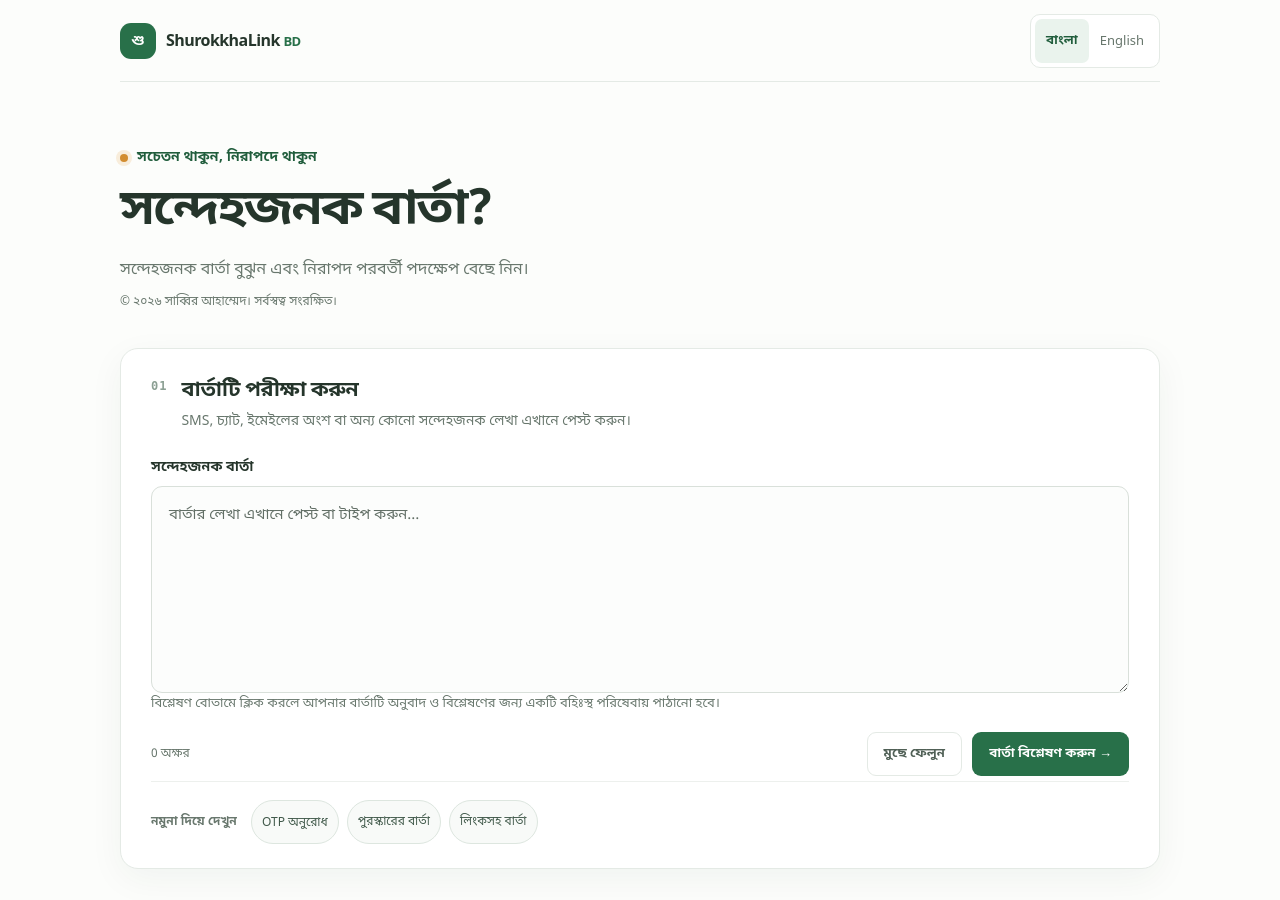
message analysis workflow › displays the validated translation before structured findings
Step 1. Click the button "English" → x=1122, y=40, box x1=1089 y1=18 x2=1155 y2=62
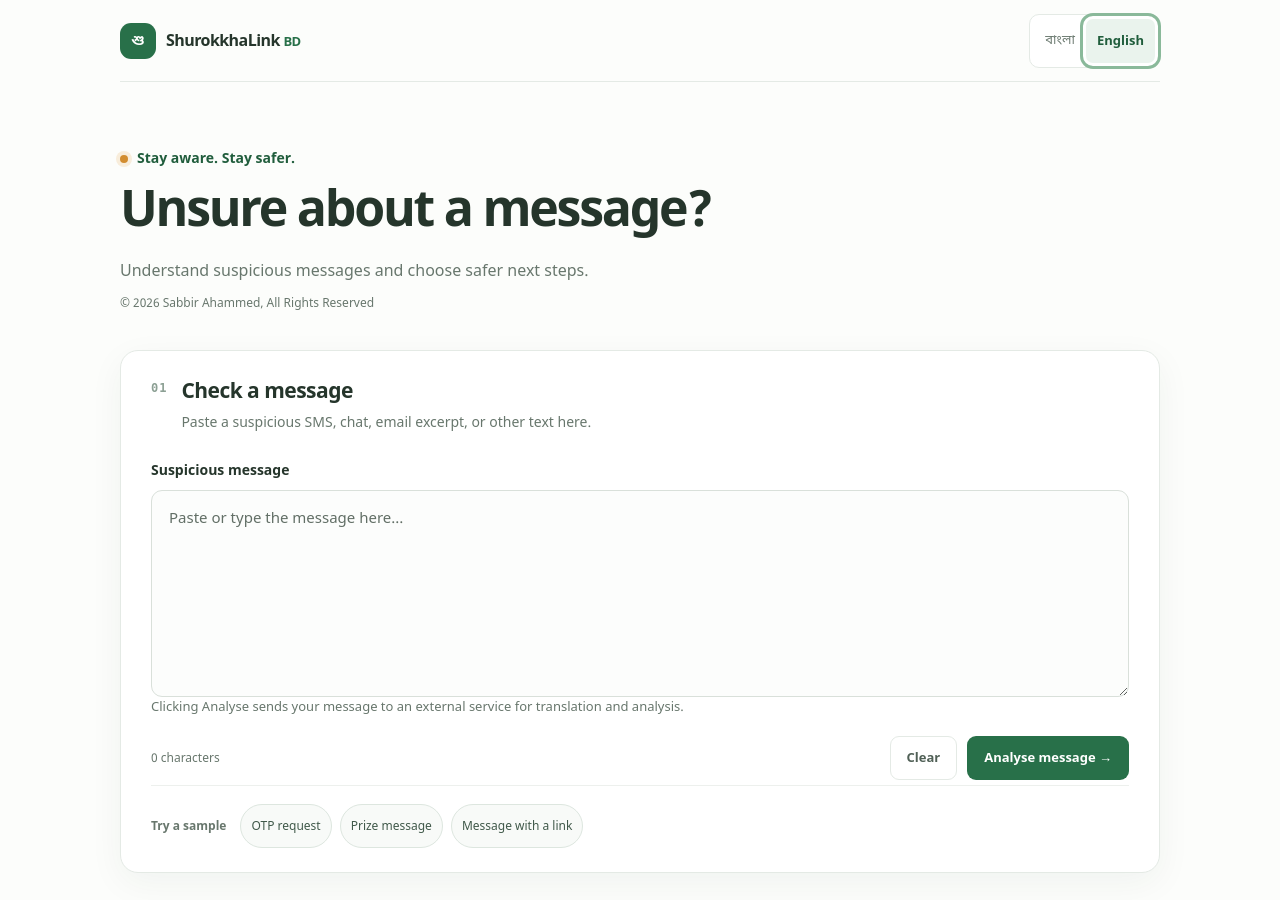
Step 2. Type "আপনার OTP এখনই পাঠান" into the text box labelled "Suspicious message" → x=640, y=594, box x1=151 y1=490 x2=1129 y2=697
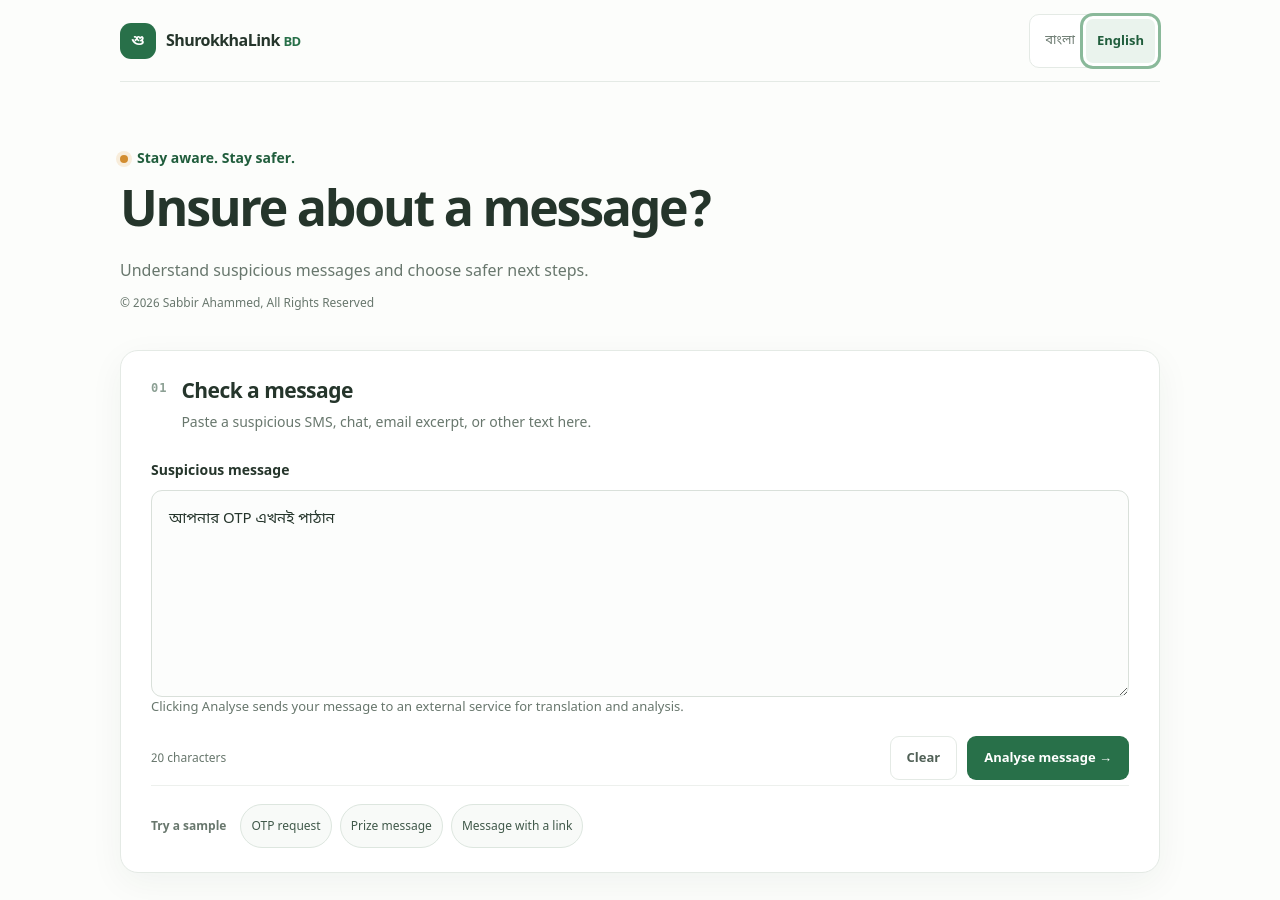
Step 3. Click the button "Analyse message →" → x=1048, y=758, box x1=967 y1=736 x2=1129 y2=780
(page scrolled)
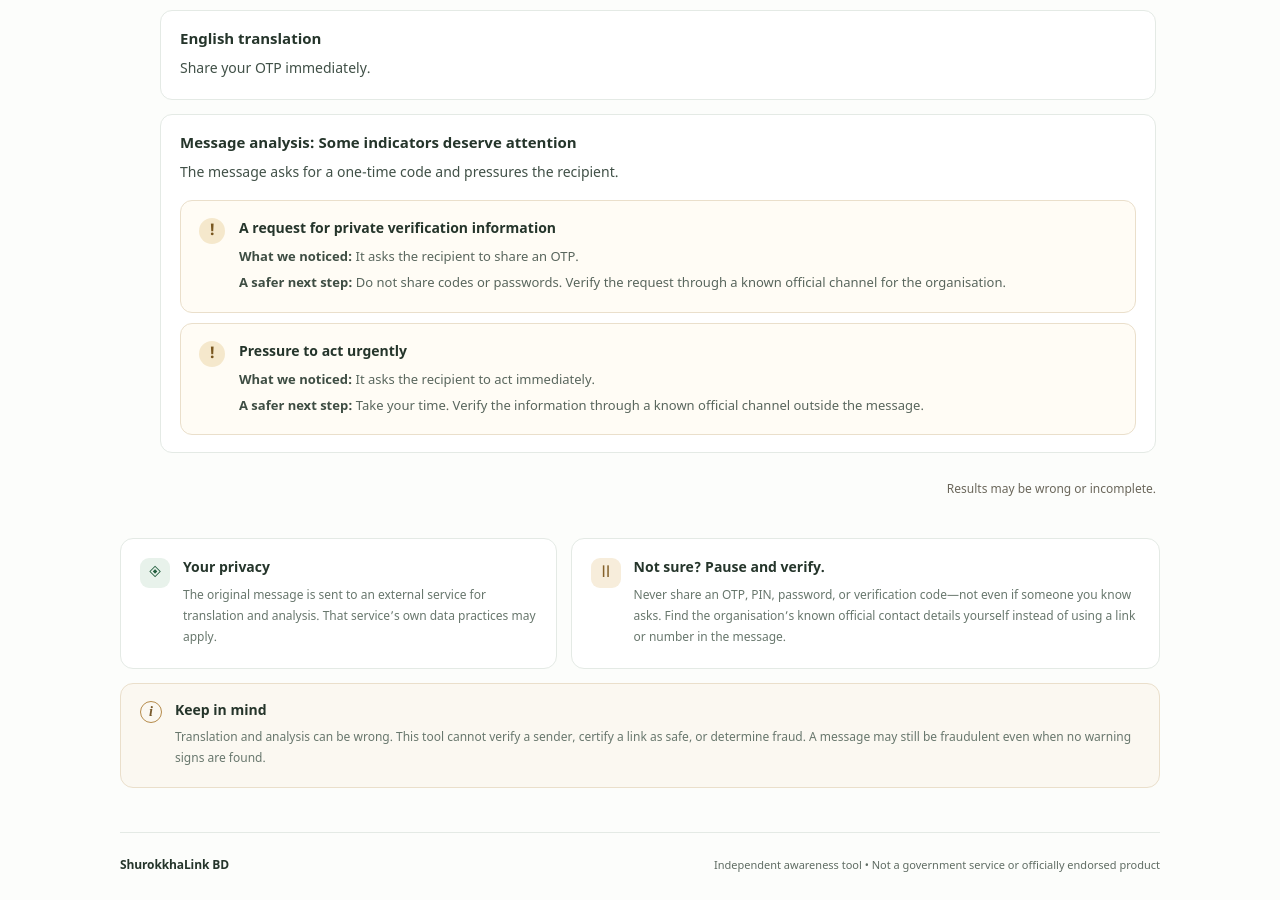
Result: the heading "English translation" is shown at x1=180 y1=30 x2=321 y2=50
Result: the text "Share your OTP immediately." is shown at x1=180 y1=60 x2=370 y2=79
Result: the heading "Message analysis: Some indicators deserve attention" is shown at x1=180 y1=134 x2=577 y2=154
